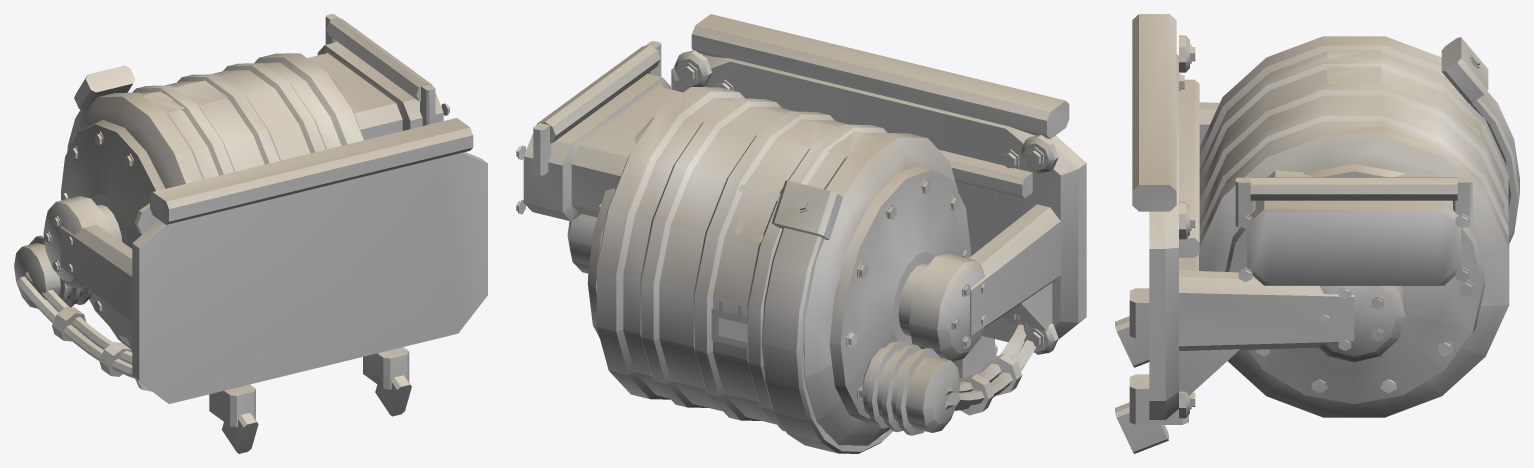
File: ammo-drum-back-half-left.glb
3 views of the same model, side by side, from view 1: azimuth 30°, elevation 25°; view 2: azimuth 150°, elevation 25°; view 3: azimuth 270°, elevation 25° (orthographic). The views are drawn at different scales.
Parts seen in each view (by area): view 1: Body; view 2: Body; view 3: Body.
Boxes of the visible parts, x1,y1,x2,y2 form: Body: [14, 14, 487, 453]; Body: [516, 14, 1086, 453]; Body: [1115, 14, 1519, 453].
Size of the model in its own units: 0.9647 by 0.7206 by 0.8206.
